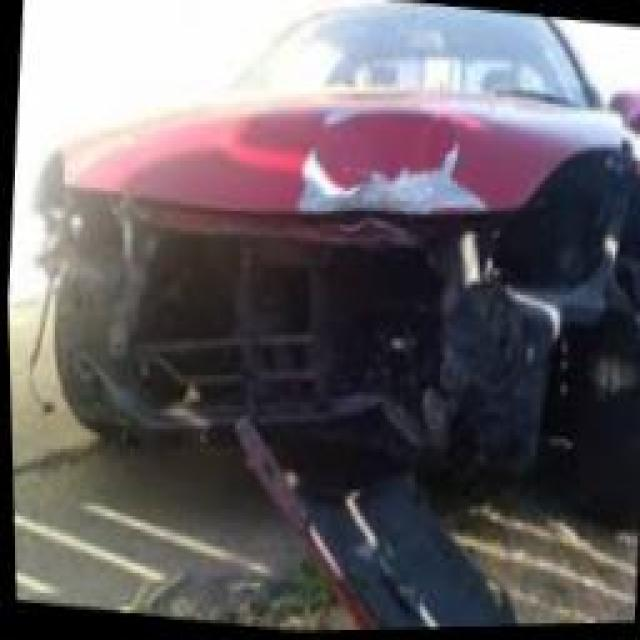Bonnet: (292, 102, 501, 212)
Bumper: (34, 200, 638, 466)
Light: (523, 138, 627, 255), (39, 152, 132, 261)
